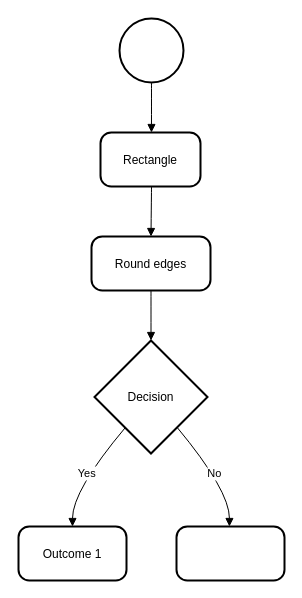
Image size: 302x598. Some labels were removed from this diagram. Here are the shapes that lost their labels. From the top down, the centre of each, then its label:
At point 151,50: "Square".
At point 230,553: "Outcome 2".
